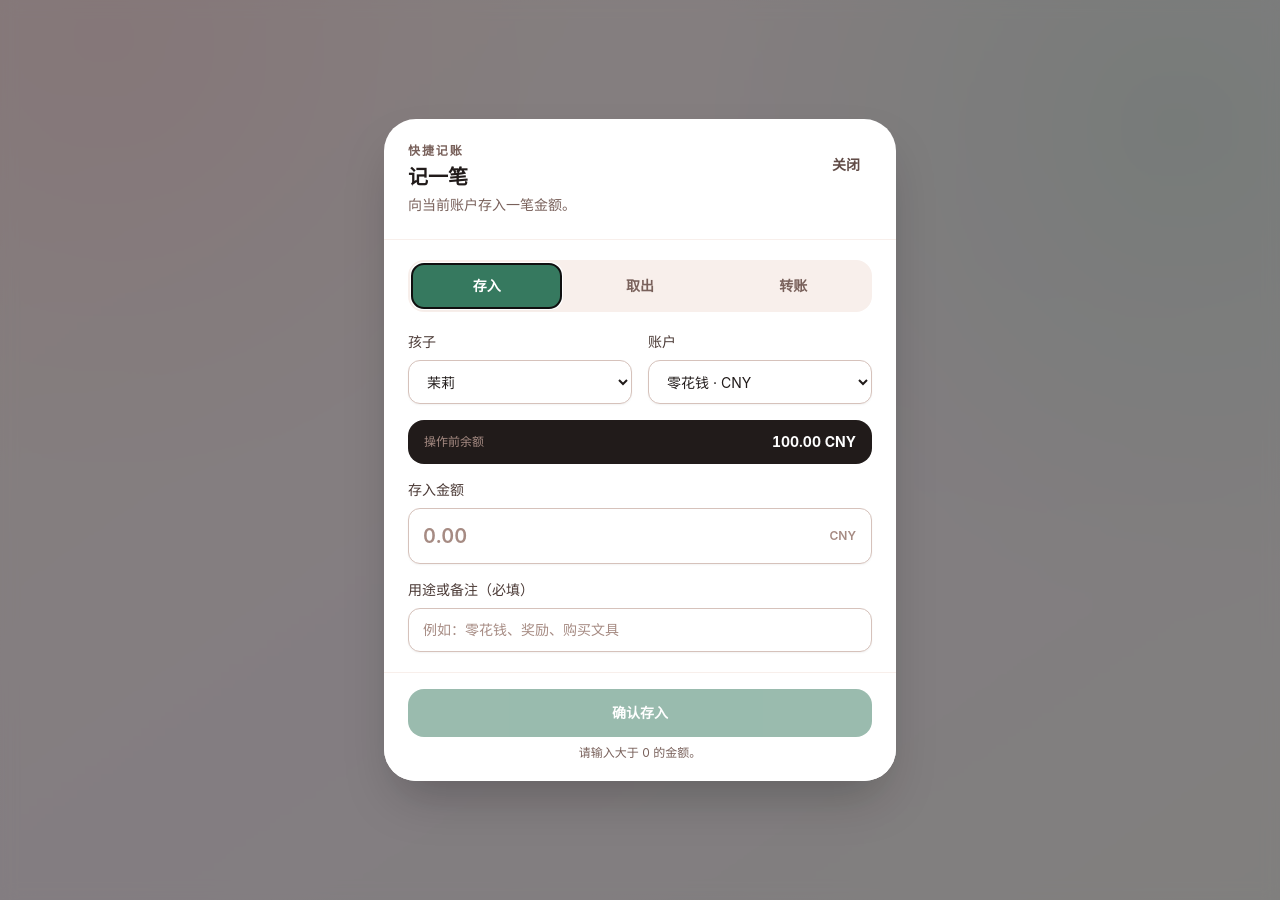
Test: LedgerEntry › submits a transfer with the entered amount, target and note
Click the button "转账": (793, 286) [719,264,868,308]
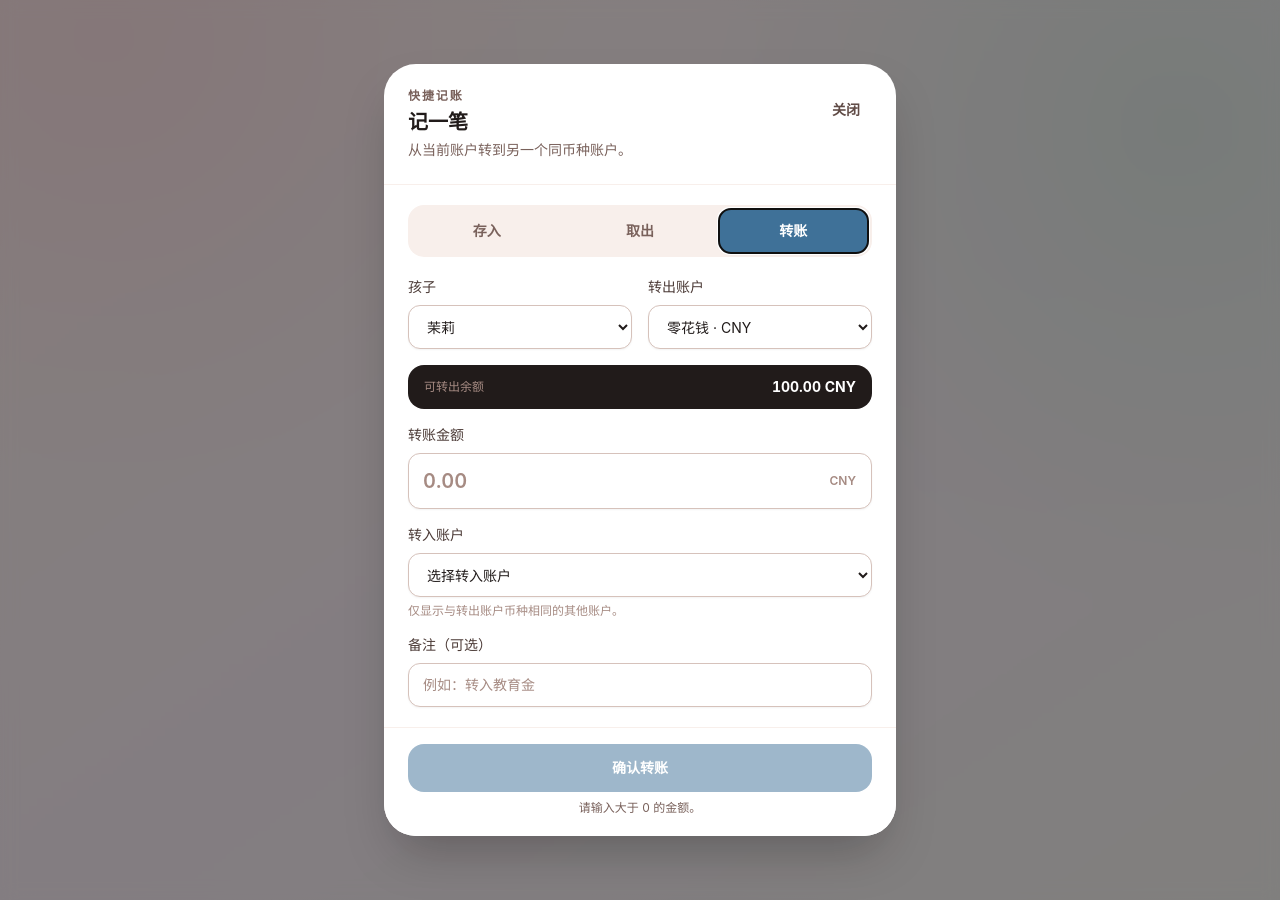
In the number field labelled "转账金额": (640, 481) [408,453,872,509], type "25"
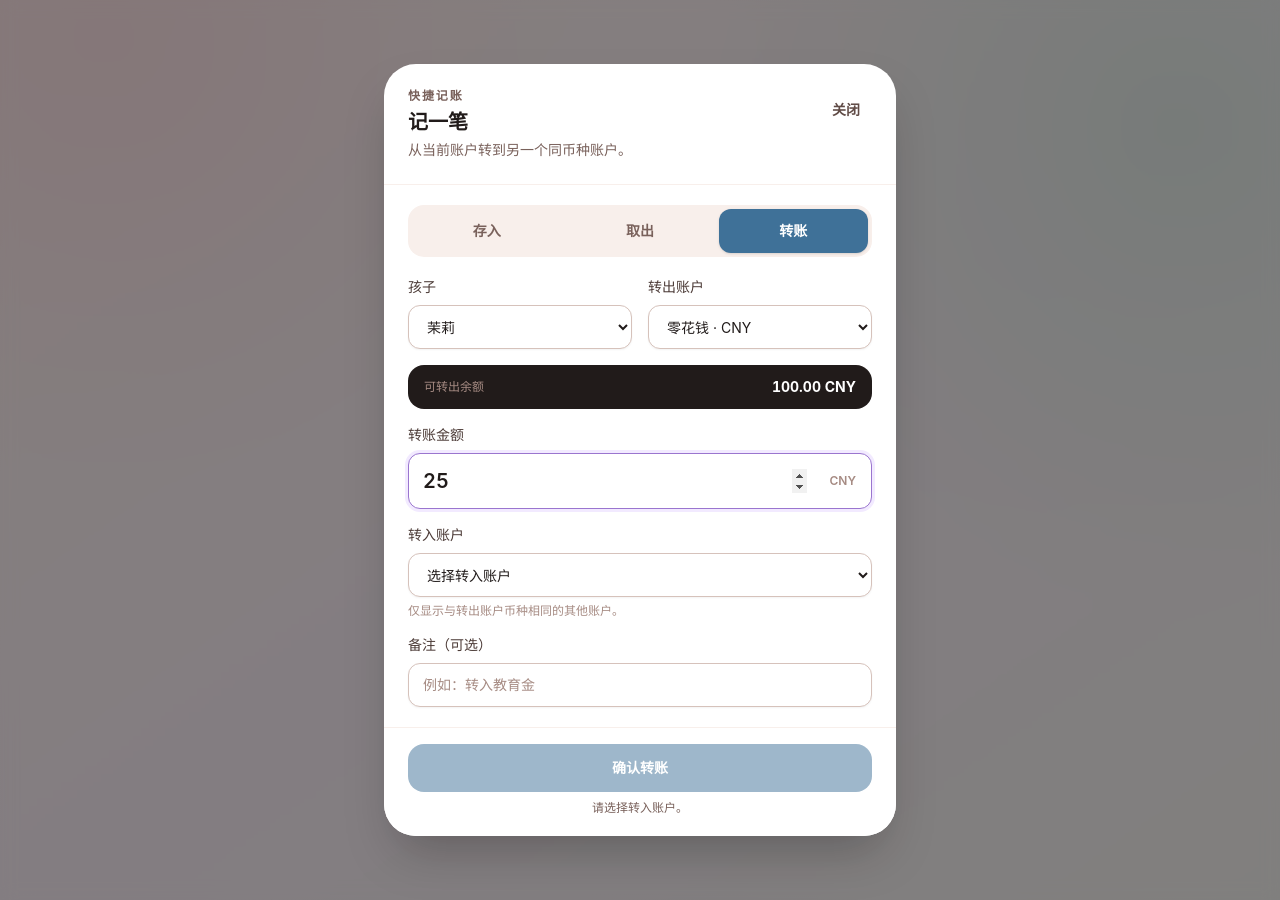
Select "小乐 · 教育金 · CNY" in the dropdown labelled "转入账户": (640, 575) [408,553,872,597]
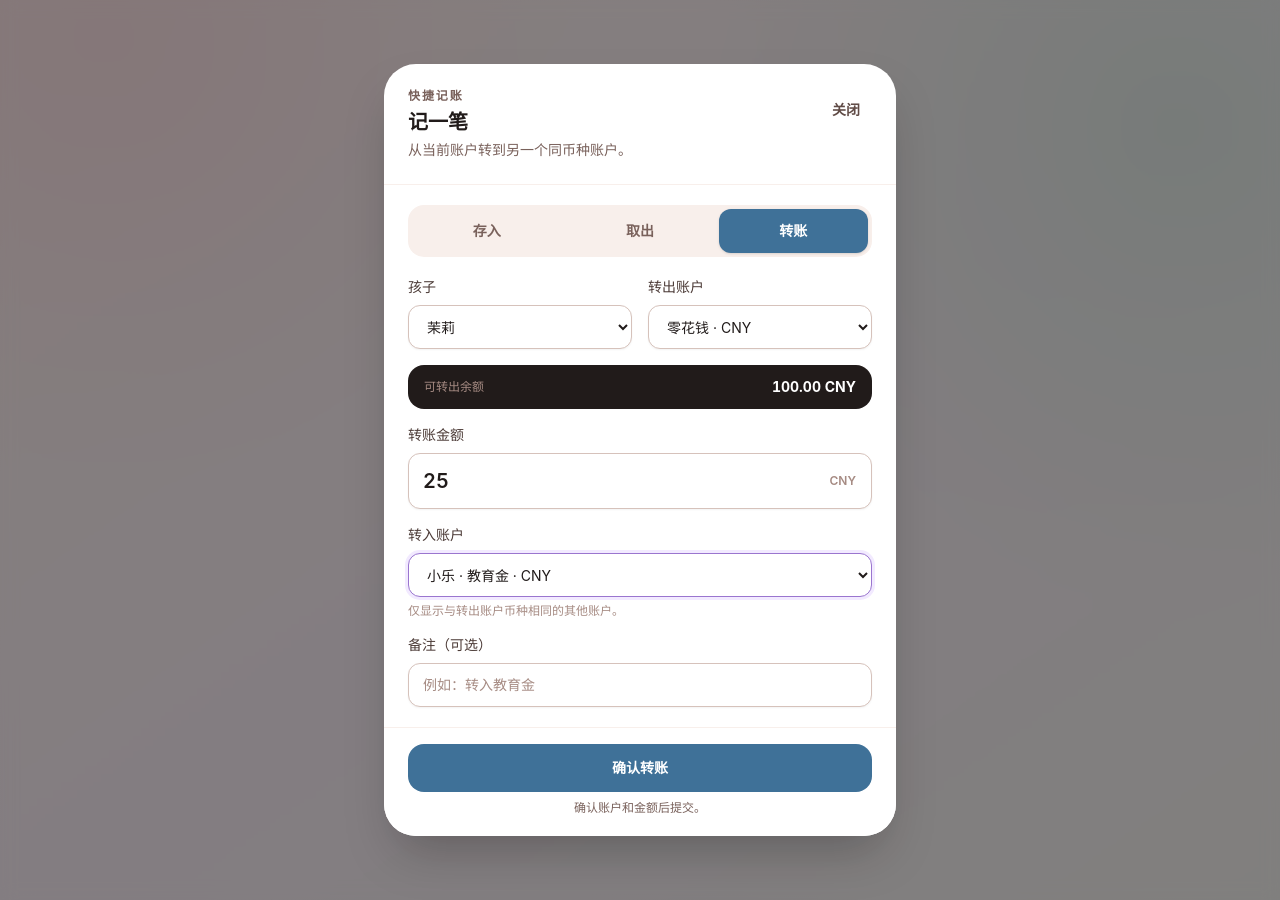
In the field labelled "备注（可选）": (640, 685) [408,663,872,707], type "储蓄"
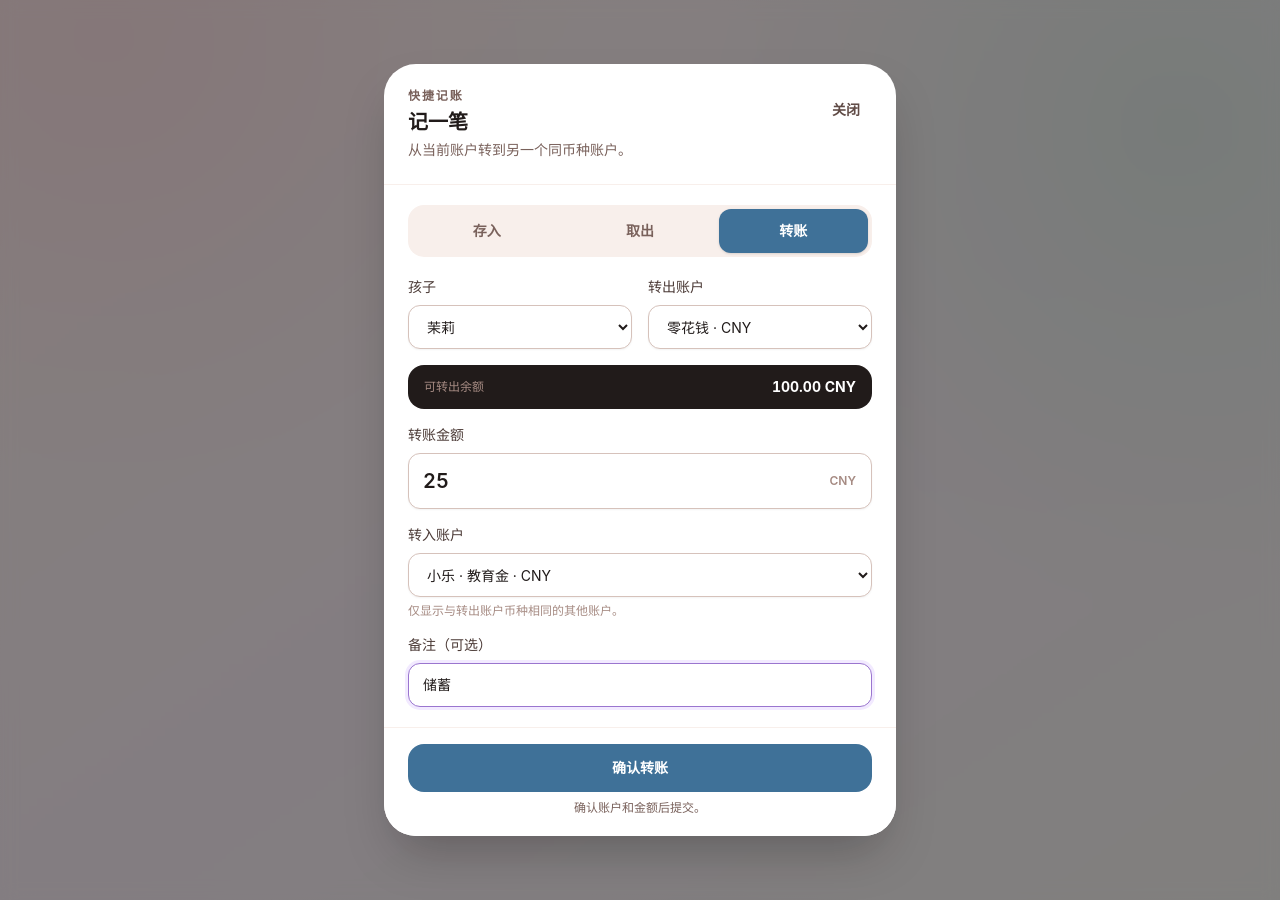
Click the button "确认转账": (640, 768) [408,744,872,792]
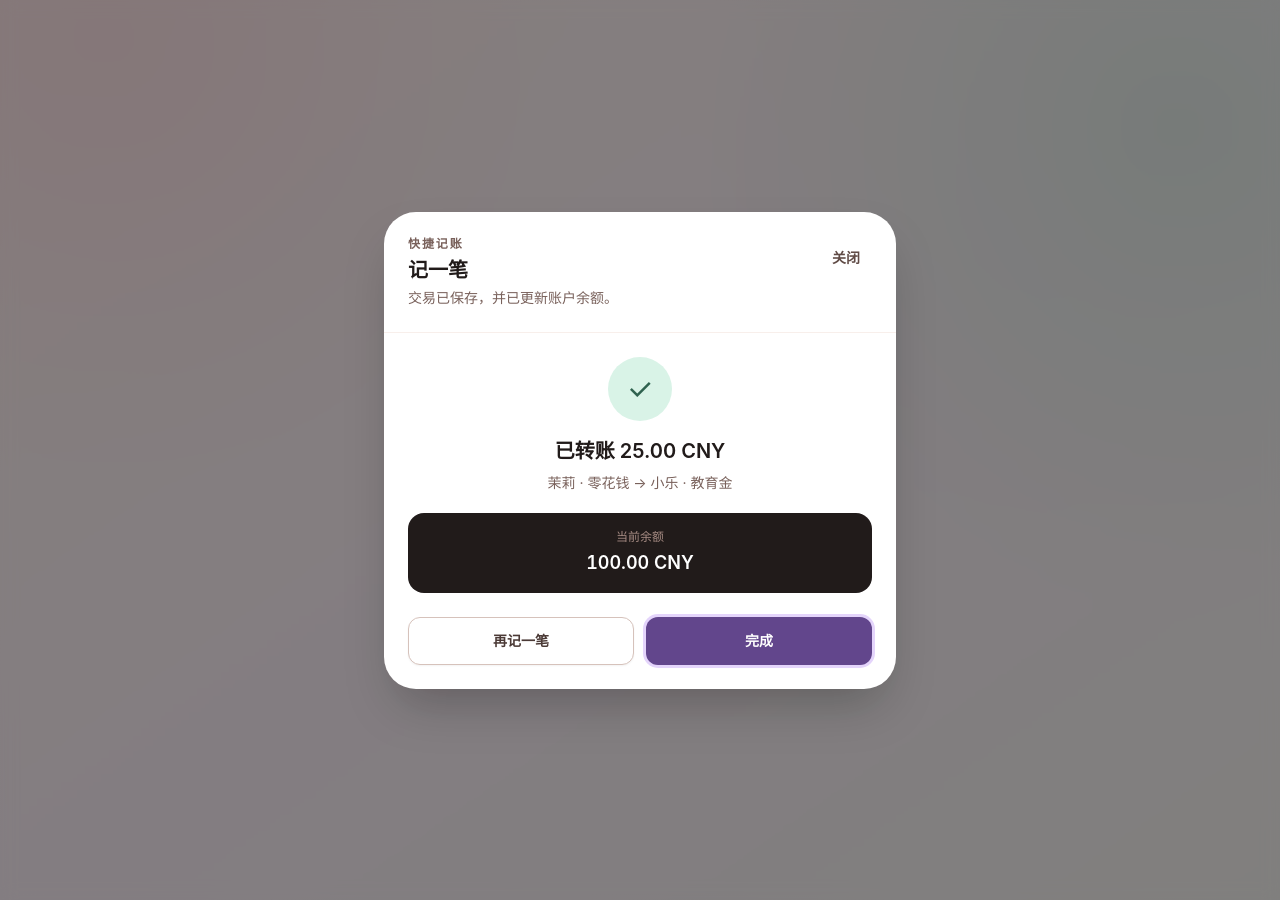
Check: the heading "已转账 25.00 CNY" is shown, box [555,438,725,462]
Check: the text "茉莉 · 零花钱 → 小乐 · 教育金" is shown, box [548,474,733,490]
